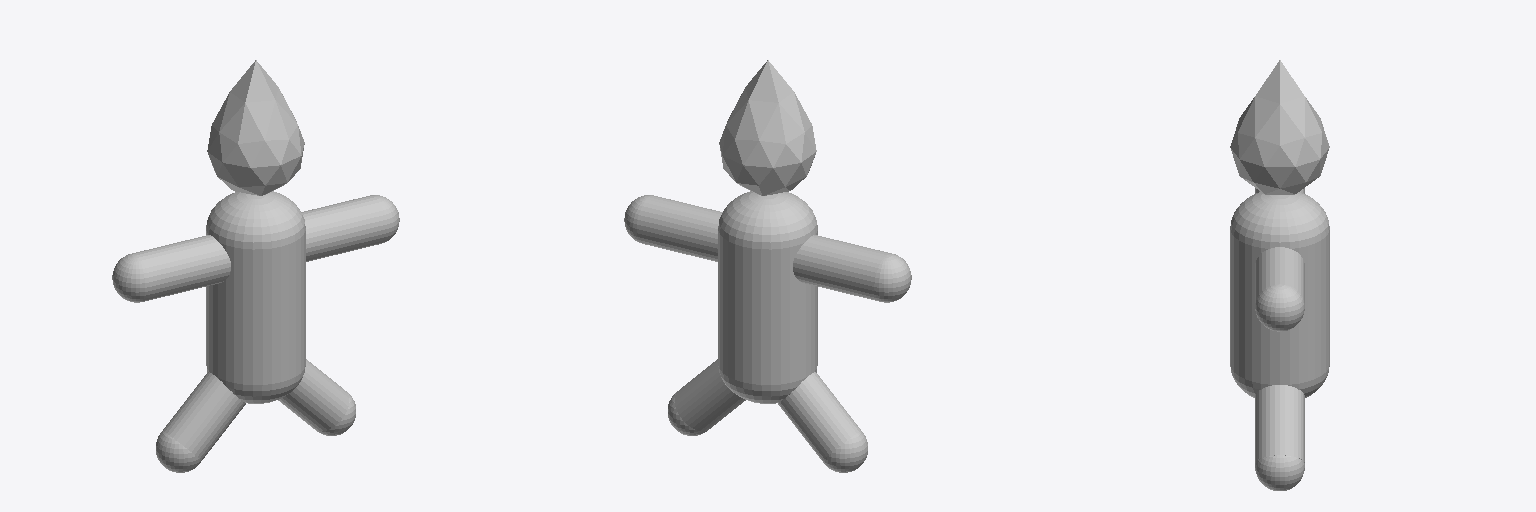
File: nero.obj
The picture shows the model from 3 angles: view 1: azimuth 30°, elevation 25°; view 2: azimuth 150°, elevation 25°; view 3: azimuth 270°, elevation 25°; orthographic projection.
Visible parts, largest first — view 1: Body_Sphere.002, Icosphere, Cylinder, Cylinder.001, Cylinder.003, Cylinder.002, Sphere.002_Sphere.008, Sphere.003_Sphere.009, Sphere.001_Sphere.003; view 2: Body_Sphere.002, Icosphere, Cylinder, Cylinder.001, Cylinder.003, Cylinder.002, Sphere.002_Sphere.008, Sphere.003_Sphere.009, Sphere.001_Sphere.003; view 3: Body_Sphere.002, Icosphere, Cylinder.002, Cylinder.001, Sphere.001_Sphere.003, Sphere.
Part boxes in pixels (x1,y1,x2,y2): Body_Sphere.002: (206,191,305,403); Icosphere: (207,60,304,195); Cylinder: (133,235,230,301); Cylinder.001: (301,196,386,261); Cylinder.003: (163,372,245,460); Cylinder.002: (278,359,348,430); Sphere.002_Sphere.008: (112,253,149,302); Sphere.003_Sphere.009: (156,431,200,472); Sphere.001_Sphere.003: (370,195,399,242); Body_Sphere.002: (718,191,817,403); Icosphere: (719,60,816,195); Cylinder: (793,235,890,301); Cylinder.001: (637,196,722,261); Cylinder.003: (778,372,860,460); Cylinder.002: (675,359,745,430); Sphere.002_Sphere.008: (874,253,911,302); Sphere.003_Sphere.009: (823,431,867,472); Sphere.001_Sphere.003: (624,195,653,242); Body_Sphere.002: (1230,192,1329,397); Icosphere: (1230,60,1329,194); Cylinder.002: (1255,385,1304,462); Cylinder.001: (1255,247,1304,302); Sphere.001_Sphere.003: (1255,284,1304,331); Sphere: (1255,455,1304,490).
Bounding box in the file's own units: 6.5 × 8.68 × 2.